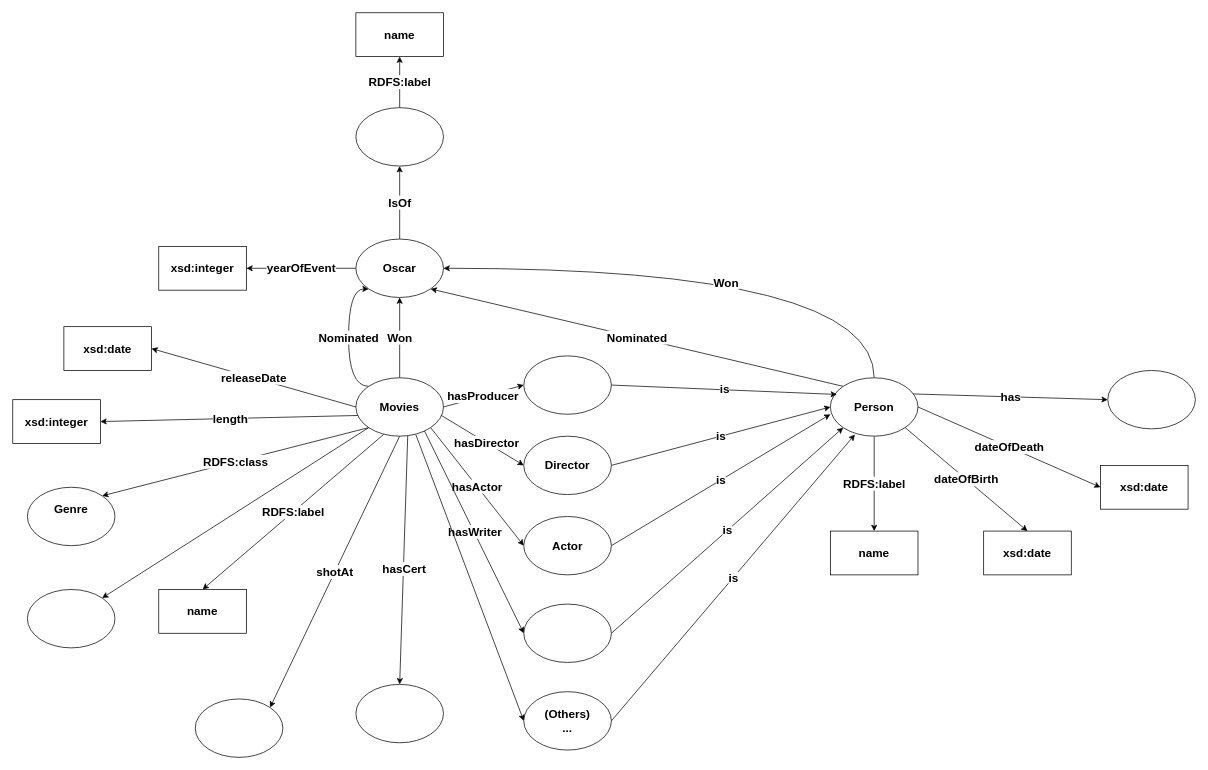
This 1208x770 diagram has some shape labels left out. The centre of each missing label's shape, as x and y in pixels:
About: the point at 71,618
Category: the point at 399,136
Certifications (kijkwijzer): the point at 399,713
Gender: the point at 1151,399
Location: the point at 239,727
Producer: the point at 567,384
Writer: the point at 567,632
